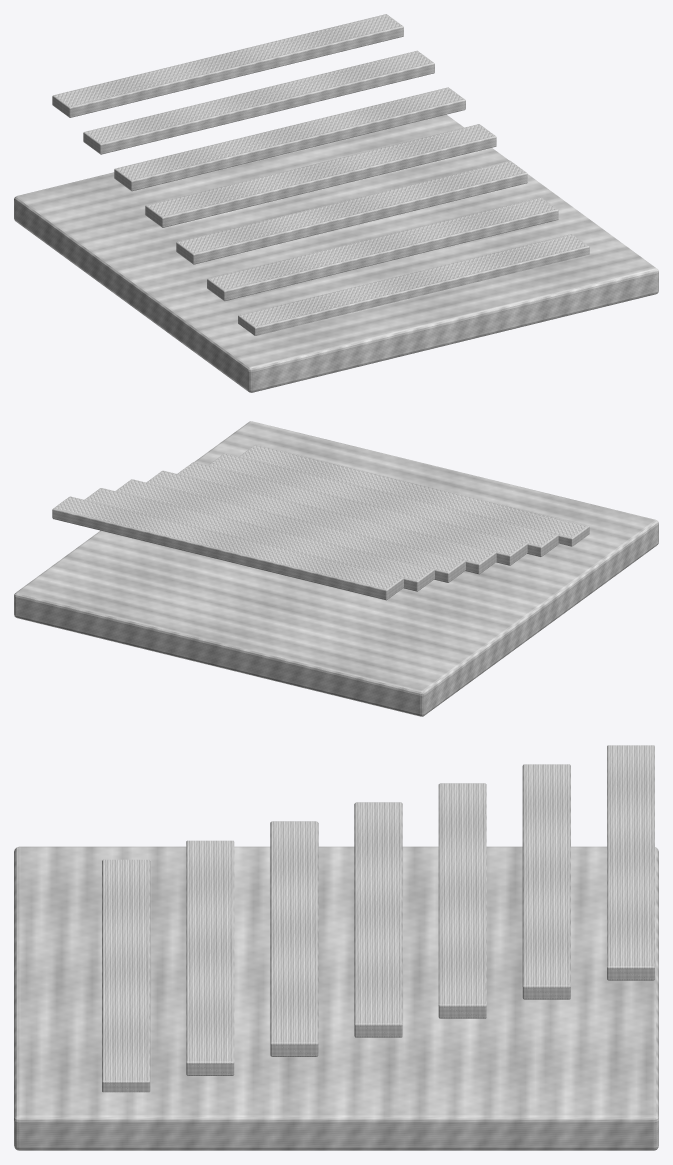
File: stairs_variant_c.glb
3 renders of one model, top to bottom at view 1: azimuth 30°, elevation 25°; view 2: azimuth 150°, elevation 25°; view 3: azimuth 270°, elevation 25°, orthographic. The views are drawn at different scales.
Parts seen in each view (by area): view 1: Foundation.002, Stair tread.020, Stair tread.018, Stair tread.021, Stair tread.022, Stair tread.023, Stair tread.019, Stair tread.017; view 2: Foundation.002, Stair tread.023, Stair tread.019, Stair tread.018, Stair tread.021, Stair tread.022, Stair tread.020, Stair tread.017; view 3: Foundation.002, Stair tread.019, Stair tread.020, Stair tread.021, Stair tread.018, Stair tread.022, Stair tread.017, Stair tread.023.
Boxes of the visible parts, bbox=[...] form: Foundation.002: bbox=[14, 114, 658, 392]; Stair tread.020: bbox=[145, 124, 496, 227]; Stair tread.018: bbox=[207, 197, 558, 301]; Stair tread.021: bbox=[114, 87, 465, 191]; Stair tread.022: bbox=[83, 50, 434, 154]; Stair tread.023: bbox=[52, 14, 403, 117]; Stair tread.019: bbox=[176, 160, 527, 264]; Stair tread.017: bbox=[238, 234, 589, 335]; Foundation.002: bbox=[14, 421, 658, 716]; Stair tread.023: bbox=[52, 496, 403, 600]; Stair tread.019: bbox=[177, 462, 527, 565]; Stair tread.018: bbox=[208, 453, 558, 556]; Stair tread.021: bbox=[115, 479, 465, 582]; Stair tread.022: bbox=[84, 488, 434, 591]; Stair tread.020: bbox=[146, 470, 496, 574]; Stair tread.017: bbox=[239, 444, 589, 546]; Foundation.002: bbox=[14, 846, 658, 1150]; Stair tread.019: bbox=[270, 821, 318, 1056]; Stair tread.020: bbox=[354, 802, 402, 1037]; Stair tread.021: bbox=[438, 783, 486, 1018]; Stair tread.018: bbox=[186, 840, 234, 1075]; Stair tread.022: bbox=[522, 764, 570, 999]; Stair tread.017: bbox=[102, 859, 150, 1092]; Stair tread.023: bbox=[607, 745, 654, 980].
Size of what is drawn, in the model's own units: 7.36 by 2.02 by 7.36.
2 materials, 2 textured.
